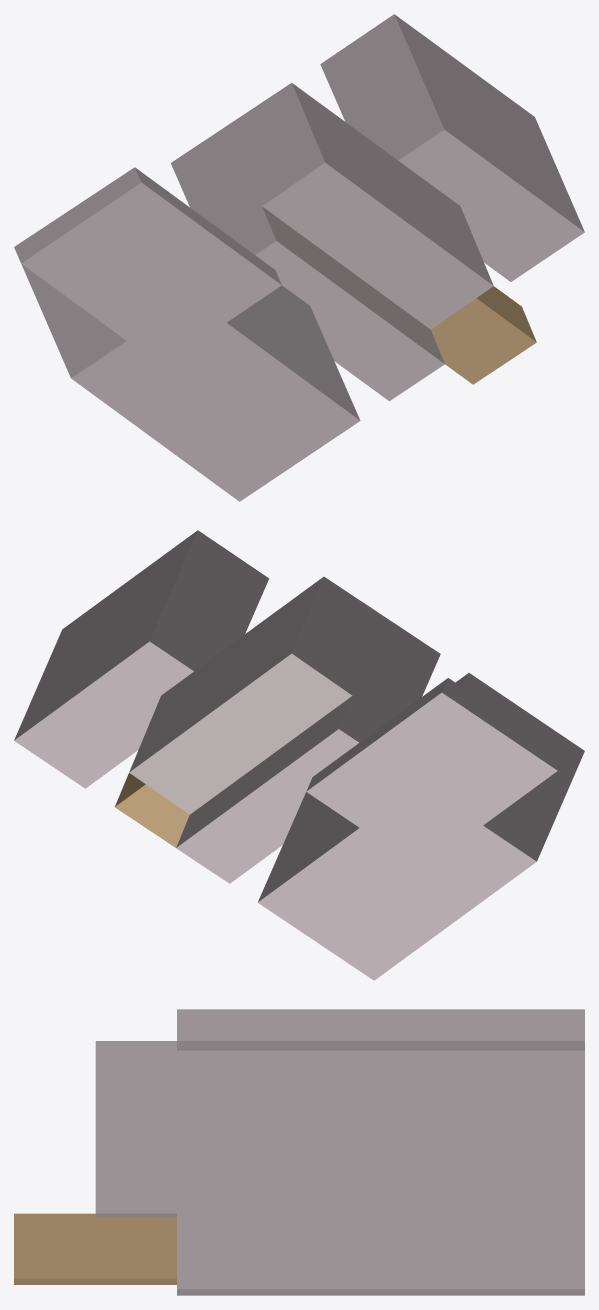
The picture shows the model from 3 angles, top to bottom: view 1: azimuth 30°, elevation 25°; view 2: azimuth 150°, elevation 25°; view 3: azimuth 270°, elevation 25°; orthographic projection. The views are drawn at different scales.
Visible parts, largest first — view 1: 0_2_2_3_0_0_0_3; view 2: 0_2_2_3_0_0_0_3; view 3: 0_2_2_3_0_0_0_3.
Part boxes in pixels (x1,y1,x2,y2): 0_2_2_3_0_0_0_3: [14, 14, 584, 501]; 0_2_2_3_0_0_0_3: [14, 530, 584, 980]; 0_2_2_3_0_0_0_3: [14, 1009, 584, 1295].
Bounding box in the file's own units: 26.51 × 16.8 × 21.
